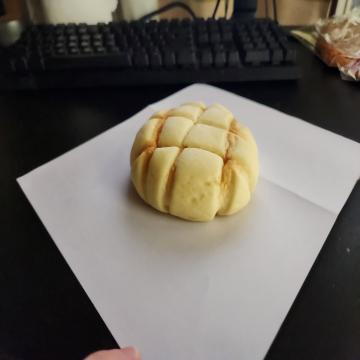melon_bread: (130, 101, 261, 222)
